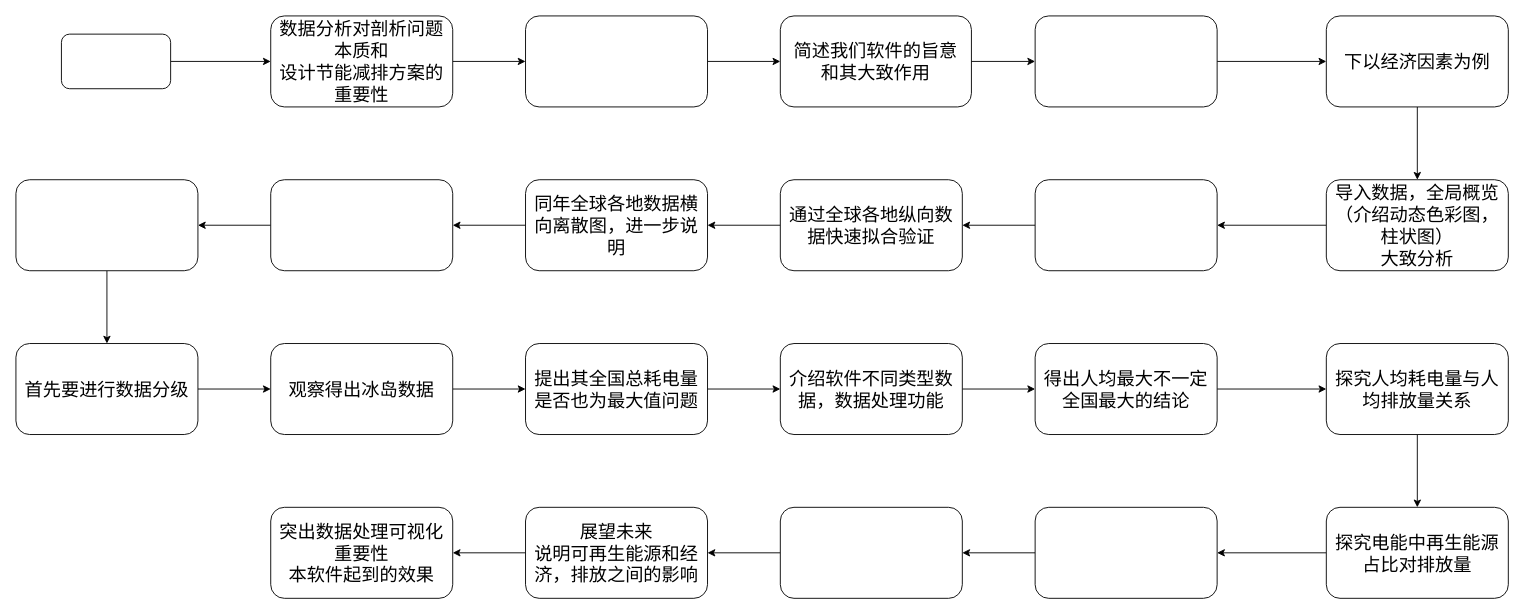
Some shapes in this 1524 by 614 pixel diagram are drawn without their labels. Here are the shapes that lost their labels. From the top down, the centre of each, then its label:
(116,61): 能源问题引入
(616,61): 现有数据处理软件的局限性
(1125,61): 提出要分析耗电量的影响因素问题
(106,225): 分析数据中特殊值的重要性
(361,225): 得出经济耗电量相互影响制约结论
(1125,225): 进一步局部地图历年数据纵向对比观察 得出一点粗浅观点
(870,552): 分析中国目前状况，对比其他国家
(1125,552): 概览全球再生能源情况
